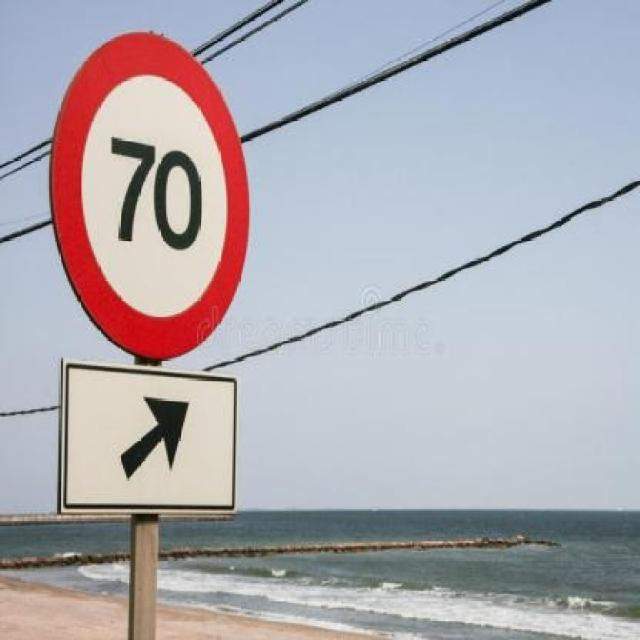forb_speed_over_70: (56, 49, 256, 357)
